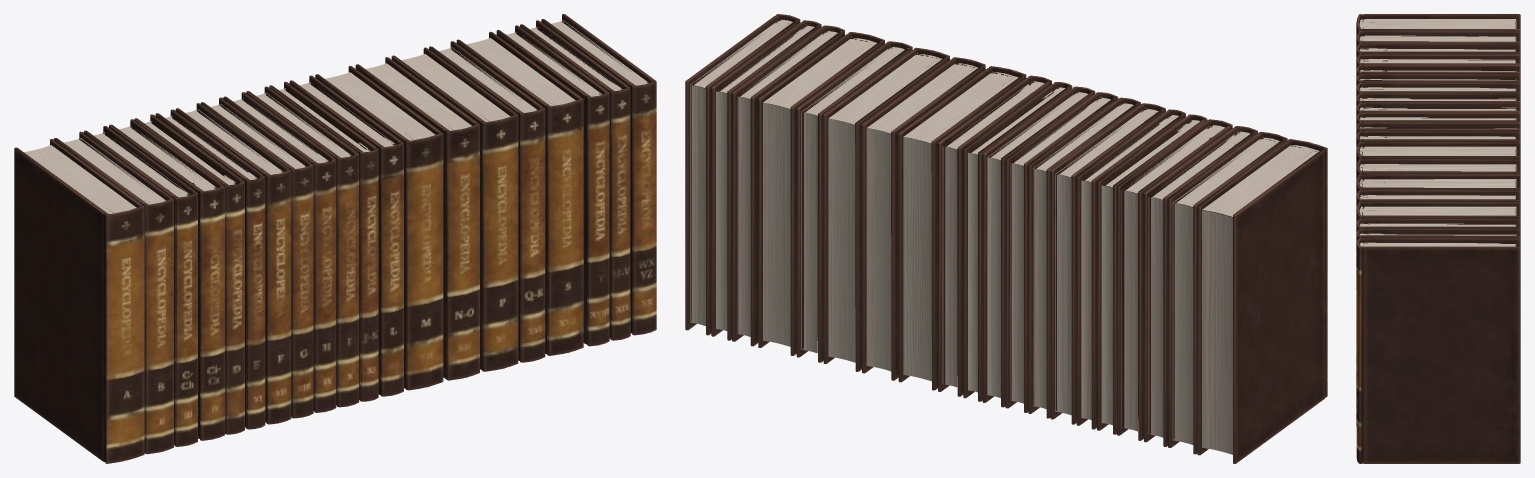
File: book_encyclopedia_set_01.glb
3 renders of one model, left to right at view 1: azimuth 30°, elevation 25°; view 2: azimuth 150°, elevation 25°; view 3: azimuth 270°, elevation 25°, orthographic. The views are drawn at different scales.
Visible parts, largest first — view 1: book_encyclopedia_set_01_book01, book_encyclopedia_set_01_book13, book_encyclopedia_set_01_book15, book_encyclopedia_set_01_book17, book_encyclopedia_set_01_book14, book_encyclopedia_set_01_book02, book_encyclopedia_set_01_book16, book_encyclopedia_set_01_book04, book_encyclopedia_set_01_book20, book_encyclopedia_set_01_book18, book_encyclopedia_set_01_book07, book_encyclopedia_set_01_book12 (+8 smaller); view 2: book_encyclopedia_set_01_book01, book_encyclopedia_set_01_book13, book_encyclopedia_set_01_book15, book_encyclopedia_set_01_book17, book_encyclopedia_set_01_book14, book_encyclopedia_set_01_book02, book_encyclopedia_set_01_book16, book_encyclopedia_set_01_book04, book_encyclopedia_set_01_book18, book_encyclopedia_set_01_book20, book_encyclopedia_set_01_book07, book_encyclopedia_set_01_book12 (+8 smaller); view 3: book_encyclopedia_set_01_book20, book_encyclopedia_set_01_book17, book_encyclopedia_set_01_book01, book_encyclopedia_set_01_book13, book_encyclopedia_set_01_book15, book_encyclopedia_set_01_book14, book_encyclopedia_set_01_book02, book_encyclopedia_set_01_book16, book_encyclopedia_set_01_book03, book_encyclopedia_set_01_book12, book_encyclopedia_set_01_book04, book_encyclopedia_set_01_book07 (+8 smaller).
Boxes of the visible parts, bbox=[...] form: book_encyclopedia_set_01_book01: bbox=[14, 139, 144, 463]; book_encyclopedia_set_01_book13: bbox=[315, 66, 443, 390]; book_encyclopedia_set_01_book15: bbox=[391, 47, 518, 371]; book_encyclopedia_set_01_book17: bbox=[456, 31, 583, 355]; book_encyclopedia_set_01_book14: bbox=[355, 57, 479, 380]; book_encyclopedia_set_01_book02: bbox=[54, 131, 173, 454]; book_encyclopedia_set_01_book16: bbox=[429, 41, 545, 362]; book_encyclopedia_set_01_book04: bbox=[109, 119, 224, 440]; book_encyclopedia_set_01_book20: bbox=[541, 14, 656, 335]; book_encyclopedia_set_01_book18: bbox=[496, 25, 609, 346]; book_encyclopedia_set_01_book07: bbox=[175, 103, 291, 424]; book_encyclopedia_set_01_book12: bbox=[289, 75, 403, 396]; book_encyclopedia_set_01_book01: bbox=[1197, 139, 1327, 463]; book_encyclopedia_set_01_book13: bbox=[898, 66, 1026, 390]; book_encyclopedia_set_01_book15: bbox=[823, 47, 949, 371]; book_encyclopedia_set_01_book17: bbox=[758, 32, 884, 355]; book_encyclopedia_set_01_book14: bbox=[861, 57, 985, 380]; book_encyclopedia_set_01_book02: bbox=[1168, 132, 1287, 454]; book_encyclopedia_set_01_book16: bbox=[796, 41, 912, 362]; book_encyclopedia_set_01_book04: bbox=[1117, 119, 1232, 440]; book_encyclopedia_set_01_book18: bbox=[732, 25, 844, 346]; book_encyclopedia_set_01_book20: bbox=[685, 14, 800, 335]; book_encyclopedia_set_01_book07: bbox=[1050, 103, 1165, 424]; book_encyclopedia_set_01_book12: bbox=[938, 75, 1051, 396]; book_encyclopedia_set_01_book20: bbox=[1356, 238, 1520, 463]; book_encyclopedia_set_01_book17: bbox=[1356, 202, 1520, 425]; book_encyclopedia_set_01_book01: bbox=[1356, 14, 1520, 35]; book_encyclopedia_set_01_book13: bbox=[1356, 142, 1520, 189]; book_encyclopedia_set_01_book15: bbox=[1356, 174, 1520, 194]; book_encyclopedia_set_01_book14: bbox=[1356, 159, 1520, 181]; book_encyclopedia_set_01_book02: bbox=[1356, 30, 1520, 47]; book_encyclopedia_set_01_book16: bbox=[1356, 190, 1520, 208]; book_encyclopedia_set_01_book03: bbox=[1356, 43, 1520, 58]; book_encyclopedia_set_01_book12: bbox=[1356, 131, 1520, 190]; book_encyclopedia_set_01_book04: bbox=[1356, 54, 1520, 77]; book_encyclopedia_set_01_book07: bbox=[1356, 82, 1520, 97].
Bounding box in the file's own units: 0.5513 × 0.2374 × 0.1636.
2 materials, 2 textured.
